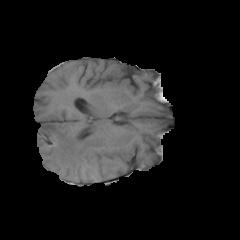glioma: (38, 122, 119, 180)
